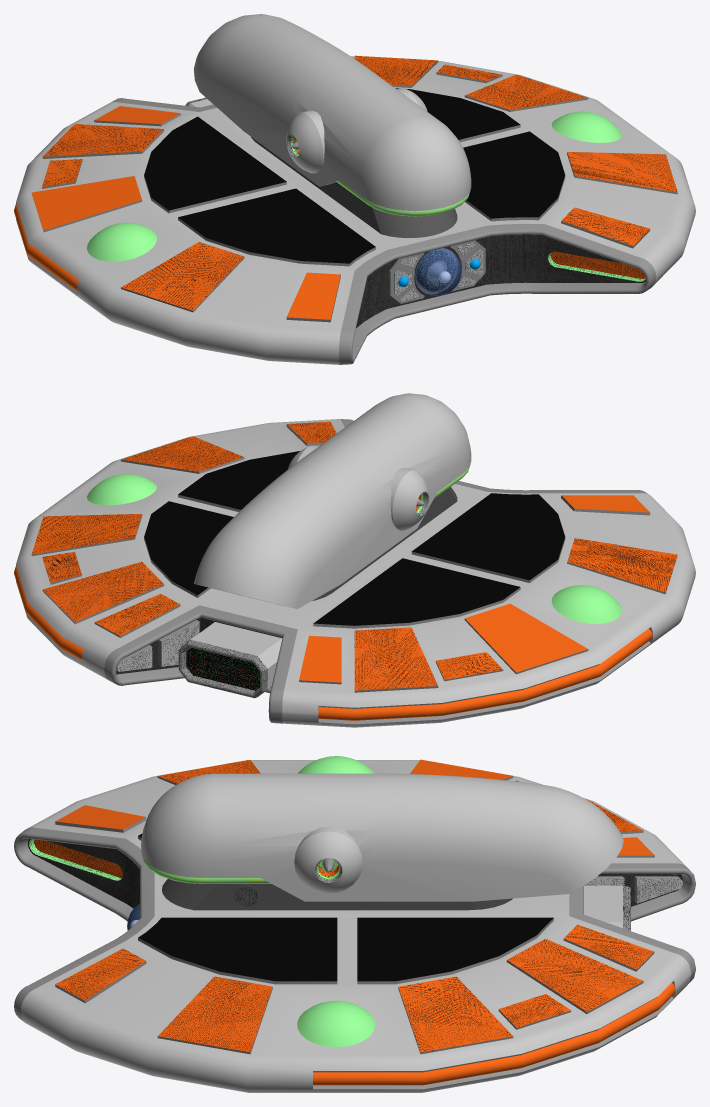
File: powerupAlien.dae
The picture shows the model from 3 angles, top to bottom: view 1: azimuth 30°, elevation 25°; view 2: azimuth 150°, elevation 25°; view 3: azimuth 270°, elevation 25°; orthographic projection. The views are drawn at different scales.
Visible parts, largest first — view 1: SketchUp (×30); view 2: SketchUp (×33); view 3: SketchUp (×28).
Boxes of the visible parts, left/top/right/bottom form: SketchUp (×30): left=14, top=14, right=695, bottom=364; SketchUp (×33): left=14, top=393, right=695, bottom=727; SketchUp (×28): left=14, top=756, right=695, bottom=1092.
Size of the model in its own units: 2735 by 2545 by 807.
